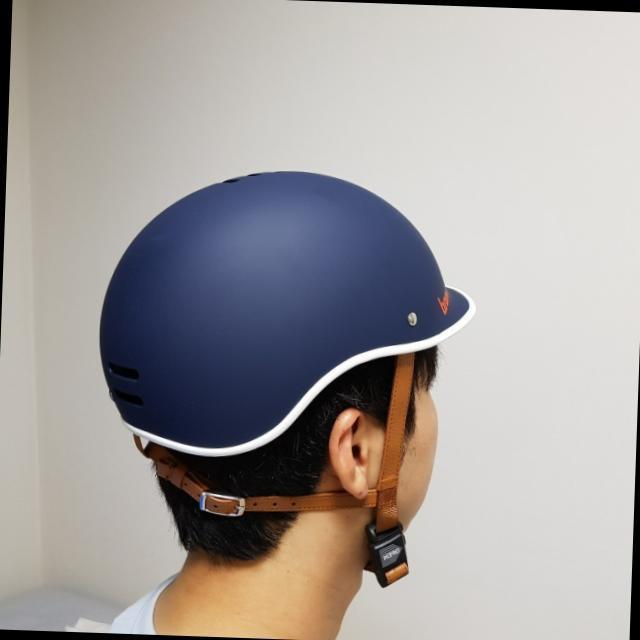with_helmet: (91, 161, 476, 581)
